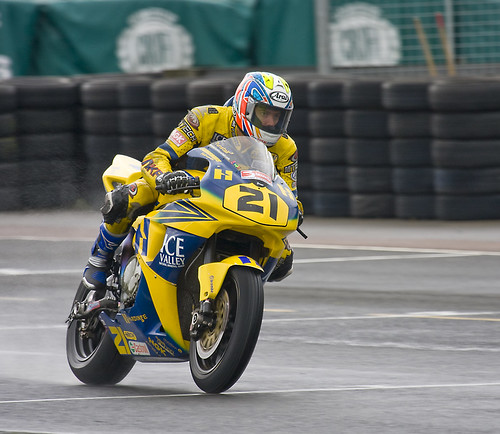helmet: (228, 63, 289, 139)
